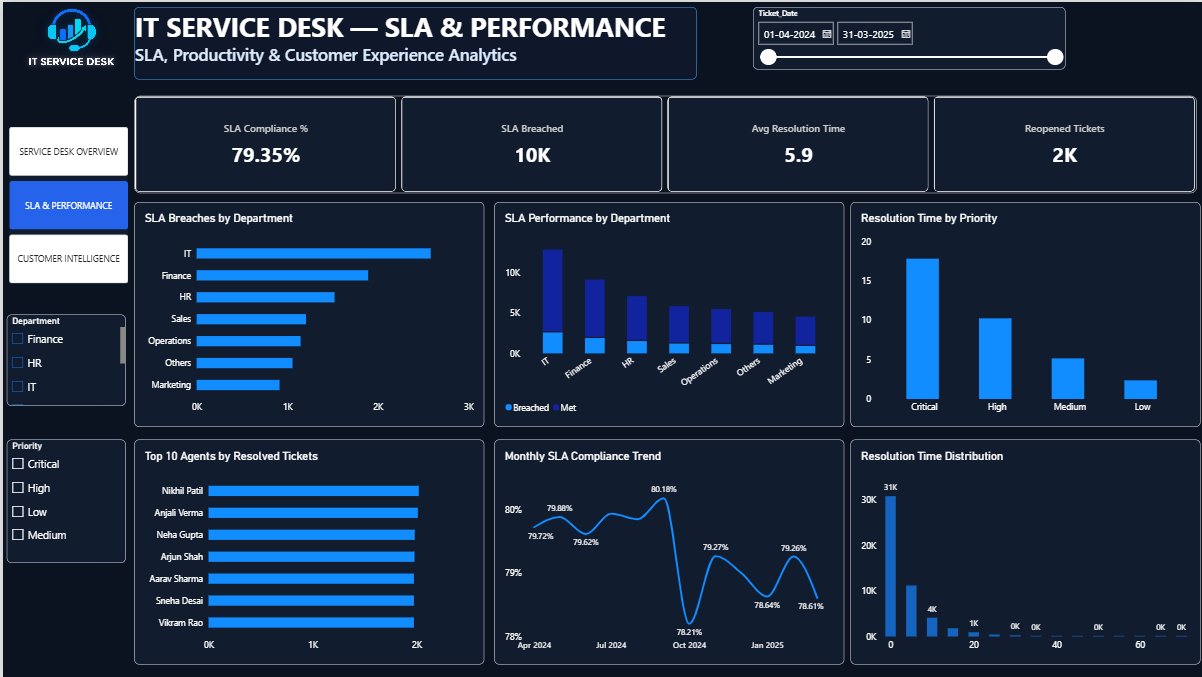

The dashboard page shown, as its layout file describes it:
{"tool":"powerbi","page":{"name":"SLA & PERFORMANCE","canvas":[1920,1080],"ordinal":1},"visuals":[{"type":"cardVisual","fields":{"Data":["Tickets.SLA Compliance %","Tickets.SLA Breached","Tickets.Avg Resolution Time","Tickets.Reopened Tickets"]},"box":[210,150,1700,155.6],"z":0},{"type":"clusteredBarChart","title":"SLA Breaches by Department","fields":{"Y":["Tickets.SLA Breached"],"Category":["Tickets.Department"]},"box":[210,320,560,360],"z":1000},{"type":"columnChart","title":"SLA Performance by Department","fields":{"Category":["Tickets.Department"],"Series":["Tickets.SLA_Status"],"Y":["Tickets.Total Tickets"]},"box":[785.6,320,560,360],"z":2000},{"type":"clusteredColumnChart","title":"Resolution Time by Priority","fields":{"Category":["Tickets.Priority"],"Y":["Tickets.Avg Resolution Time"]},"box":[1355,320,560,360],"z":3000},{"type":"clusteredBarChart","title":"Top 10 Agents by Resolved Tickets","fields":{"Category":["Tickets.Agent_Name"],"Y":["Tickets.Resolved Tickets"]},"box":[210,700,560,360],"z":4000},{"type":"lineChart","title":"Monthly SLA Compliance Trend","fields":{"Y":["Tickets.SLA Compliance %"],"Category":["Tickets.Month"]},"box":[785,700,560,360],"z":5000},{"type":"clusteredColumnChart","title":"Resolution Time Distribution","fields":{"Y":["Tickets.Total Tickets"],"Category":["Tickets.Resolution_Time_Hours (bins)"]},"box":[1355,700,560,360],"z":6000},{"type":"slicer","fields":{"Values":["Tickets.Ticket_Date"]},"box":[1200,7,500,100],"z":8000},{"type":"slicer","fields":{"Values":["Tickets.Department"]},"box":[5.7,499.1,190,146.1],"z":9000},{"type":"slicer","fields":{"Values":["Tickets.Priority"]},"box":[5.7,700.2,190,197.4],"z":10000},{"type":"textbox","box":[210,7.6,900,115.8],"z":11000},{"type":"pageNavigator","box":[10,200,190,250],"z":11001},{"type":"image","box":[10,10,200,100],"z":11002}]}

Visuals, with their boxes in screenshot pixels (x1, y1, x2, y2), scaled from the page's 1920x1080 canvas onto the 1202x677 screenshot:
cardVisual - Tickets.SLA Compliance % x Tickets.SLA Breached: rect(131, 94, 1196, 192)
"SLA Breaches by Department" clusteredBarChart: rect(131, 201, 482, 426)
"SLA Performance by Department" columnChart: rect(492, 201, 842, 426)
"Resolution Time by Priority" clusteredColumnChart: rect(848, 201, 1199, 426)
"Top 10 Agents by Resolved Tickets" clusteredBarChart: rect(131, 439, 482, 664)
"Monthly SLA Compliance Trend" lineChart: rect(491, 439, 842, 664)
"Resolution Time Distribution" clusteredColumnChart: rect(848, 439, 1199, 664)
slicer - Tickets.Ticket_Date: rect(751, 4, 1064, 67)
slicer - Tickets.Department: rect(4, 313, 123, 404)
slicer - Tickets.Priority: rect(4, 439, 123, 563)
textbox: rect(131, 5, 695, 77)
pageNavigator: rect(6, 125, 125, 282)
image: rect(6, 6, 131, 69)
